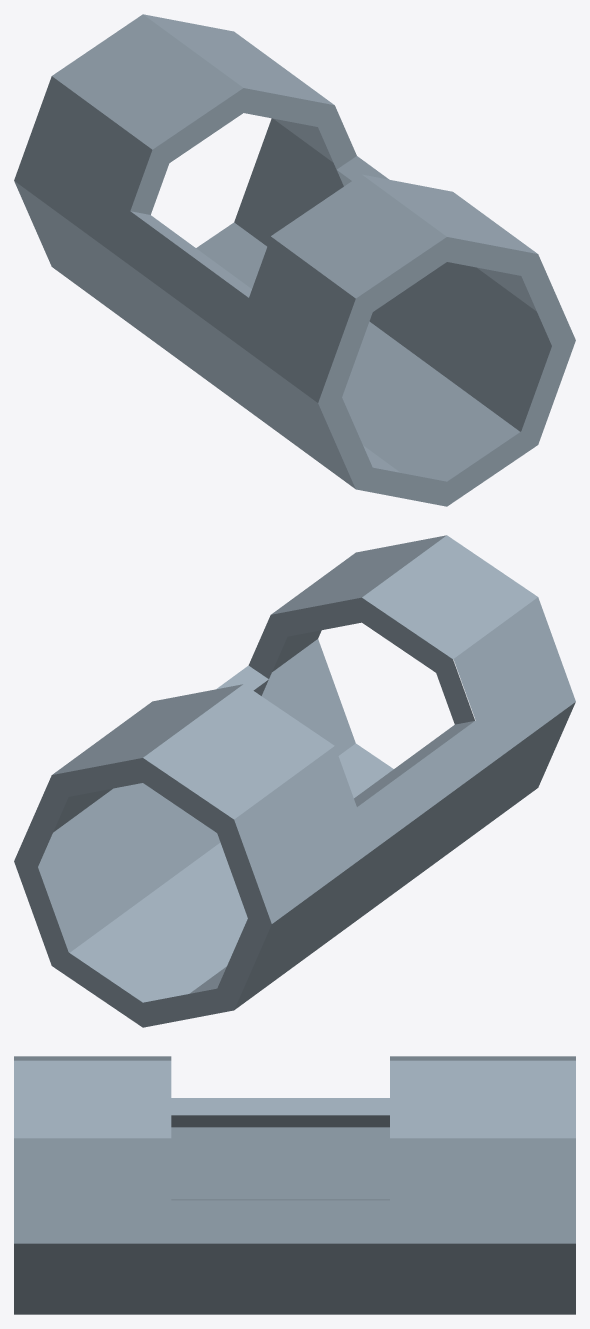
File: pipeopening.glb
3 views of the same model, one above another, from view 1: azimuth 30°, elevation 25°; view 2: azimuth 150°, elevation 25°; view 3: azimuth 270°, elevation 25° (orthographic). The views are drawn at different scales.
Parts seen in each view (by area): view 1: pipeOpening; view 2: pipeOpening; view 3: pipeOpening.
Part boxes in pixels (bbox=[...]): pipeOpening: bbox=[14, 14, 575, 506]; pipeOpening: bbox=[14, 535, 575, 1027]; pipeOpening: bbox=[14, 1056, 575, 1314].
Bounding box in the file's own units: 4.9 × 4.9 × 10.
